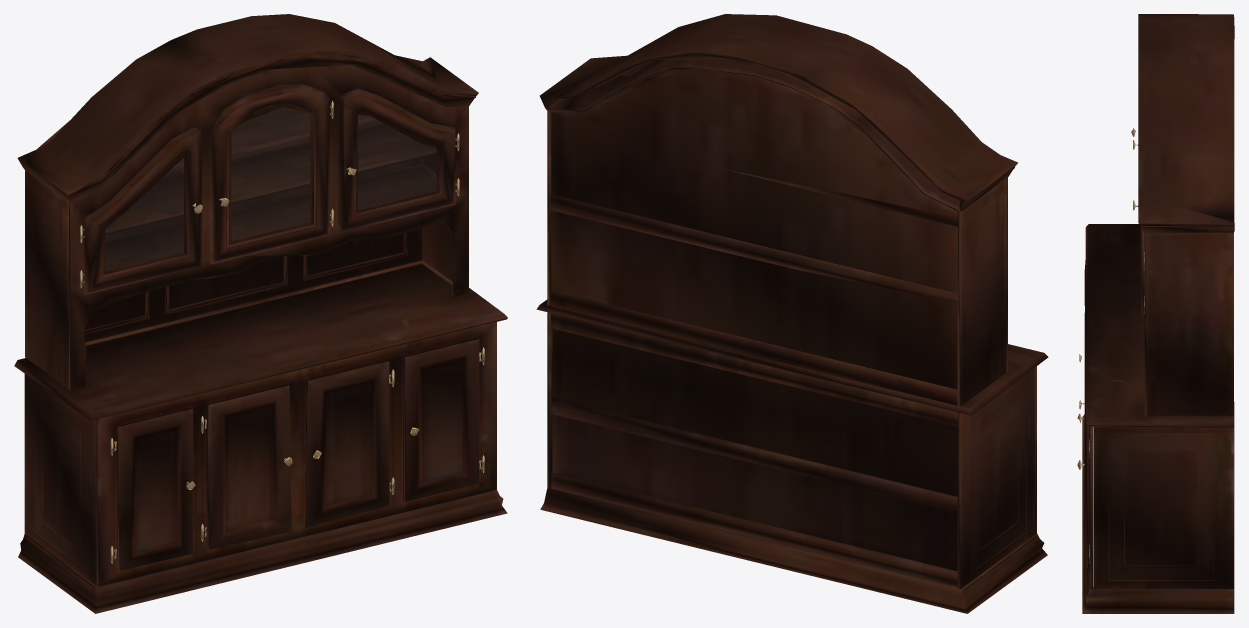
File: vintage_cabinet_01.glb
The picture shows the model from 3 angles, left to right: view 1: azimuth 30°, elevation 25°; view 2: azimuth 150°, elevation 25°; view 3: azimuth 270°, elevation 25°; orthographic projection. The views are drawn at different scales.
Parts seen in each view (by area): view 1: vintage_cabinet_01_body, vintage_cabinet_01_door_01; view 2: vintage_cabinet_01_body; view 3: vintage_cabinet_01_body.
Part boxes in pixels (x1=…): vintage_cabinet_01_body: x1=14, y1=14, x2=507, y2=613; vintage_cabinet_01_door_01: x1=105, y1=106, x2=436, y2=271; vintage_cabinet_01_body: x1=536, y1=14, x2=1048, y2=613; vintage_cabinet_01_body: x1=1077, y1=14, x2=1234, y2=613.
Bounding box in the file's own units: 2.02 × 2.23 × 0.6698.
3 materials, 2 textured.
